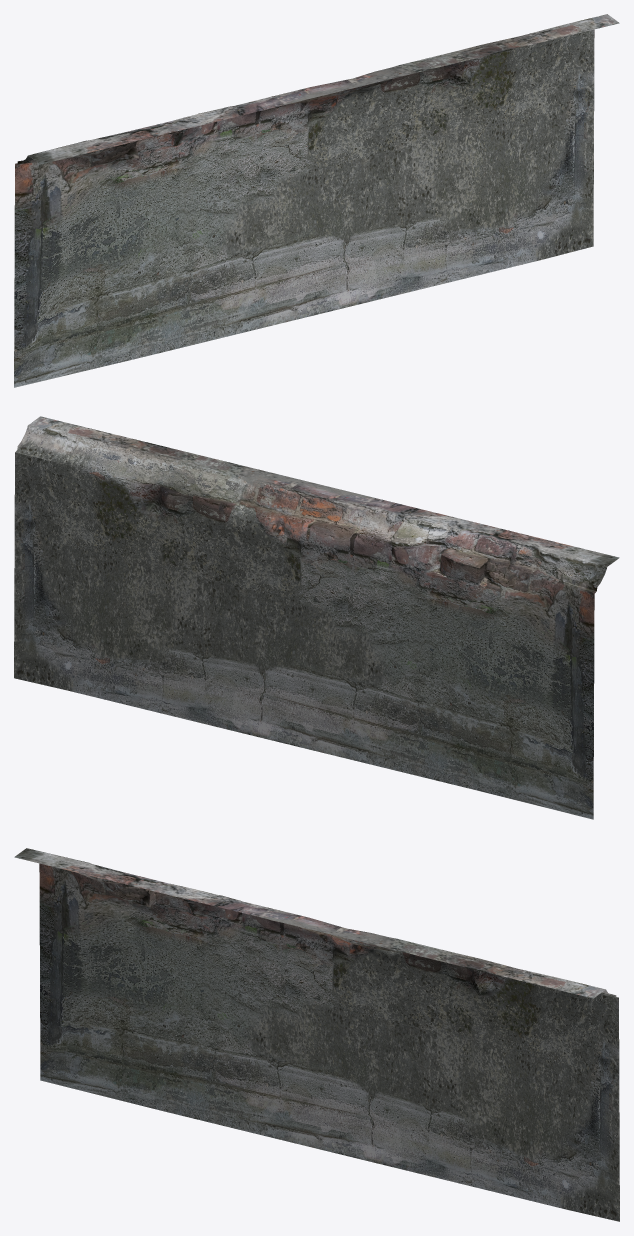
The model's file is SM_ChapelWall_05_04_OneSide.fbx.
3 views of the same model, one above another, from view 1: azimuth 30°, elevation 25°; view 2: azimuth 150°, elevation 25°; view 3: azimuth 330°, elevation 25° (orthographic).
Parts seen in each view (by area): view 1: sm_ChapelWall_05_04_OneSide_LOD0; view 2: sm_ChapelWall_05_04_OneSide_LOD0; view 3: sm_ChapelWall_05_04_OneSide_LOD0.
Boxes of the visible parts, box(x1,y1,x2,y2) form: sm_ChapelWall_05_04_OneSide_LOD0: box(14, 14, 619, 387); sm_ChapelWall_05_04_OneSide_LOD0: box(14, 416, 619, 819); sm_ChapelWall_05_04_OneSide_LOD0: box(14, 848, 619, 1221).
Bounding box in the file's own units: 19.98 × 250 × 100.
